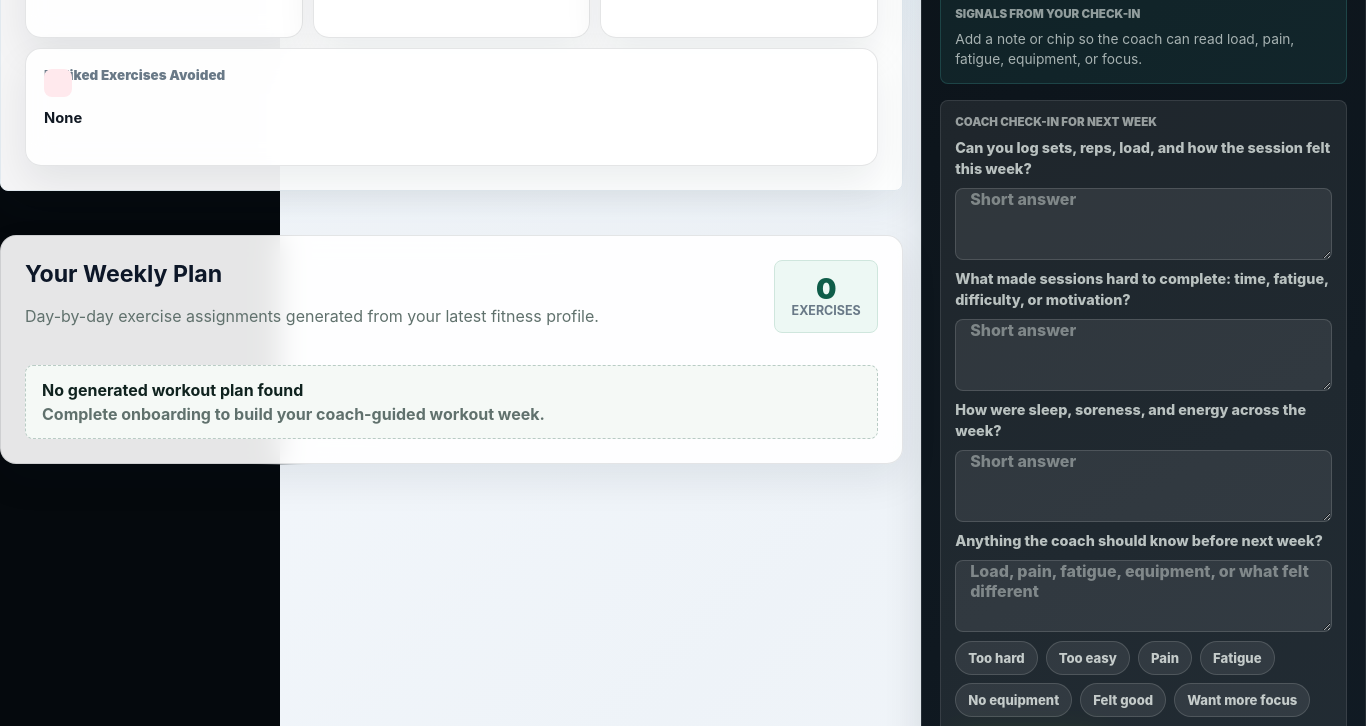
it: weekly check-in renders guided inputs and sends answers, note, and selected chips
(page scrolled)
Expected: the text "Coach check-in for next week" is shown, [955,116,1157,130]
Expected: the text "Coach suggestions" is not shown
In the text box named "Answer coach question 2": (1144, 355) [955,319,1332,391], type "No time because work was busy"
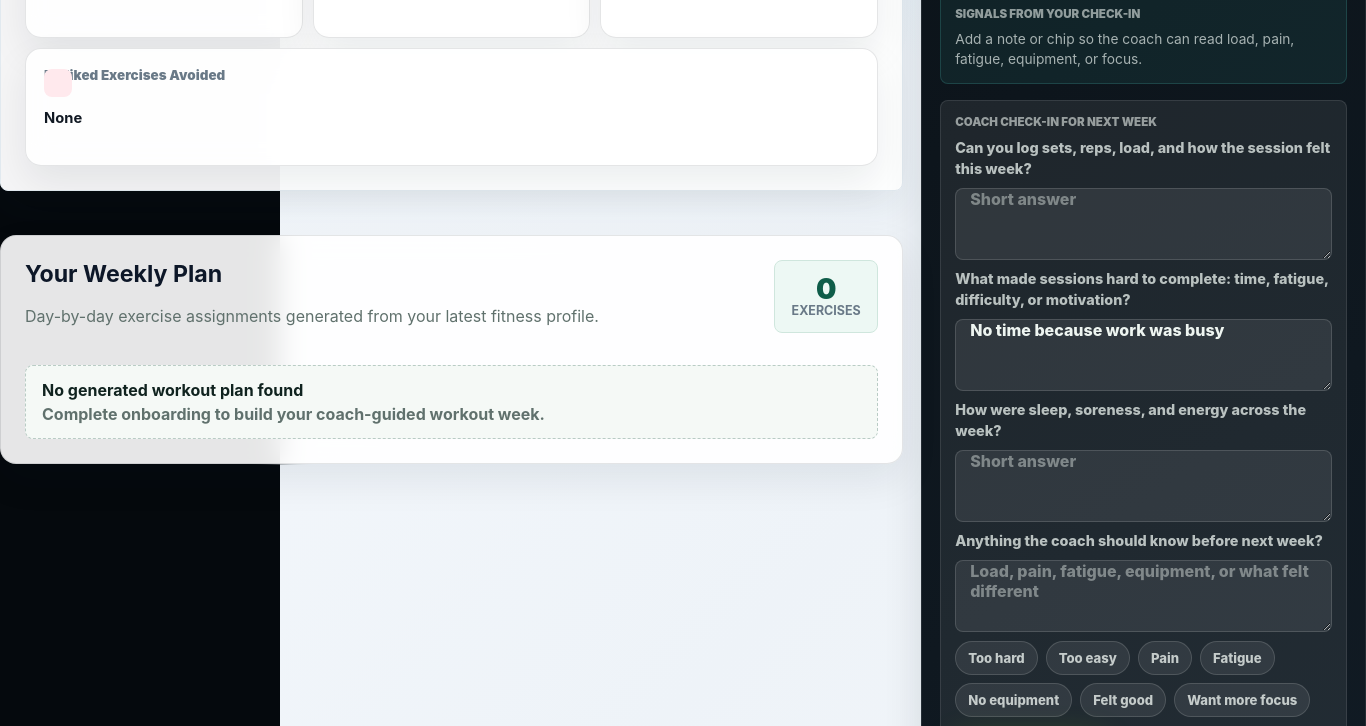
In the text box named "General coach note": (1144, 596) [955,560,1332,632], type "The machine was occupied"
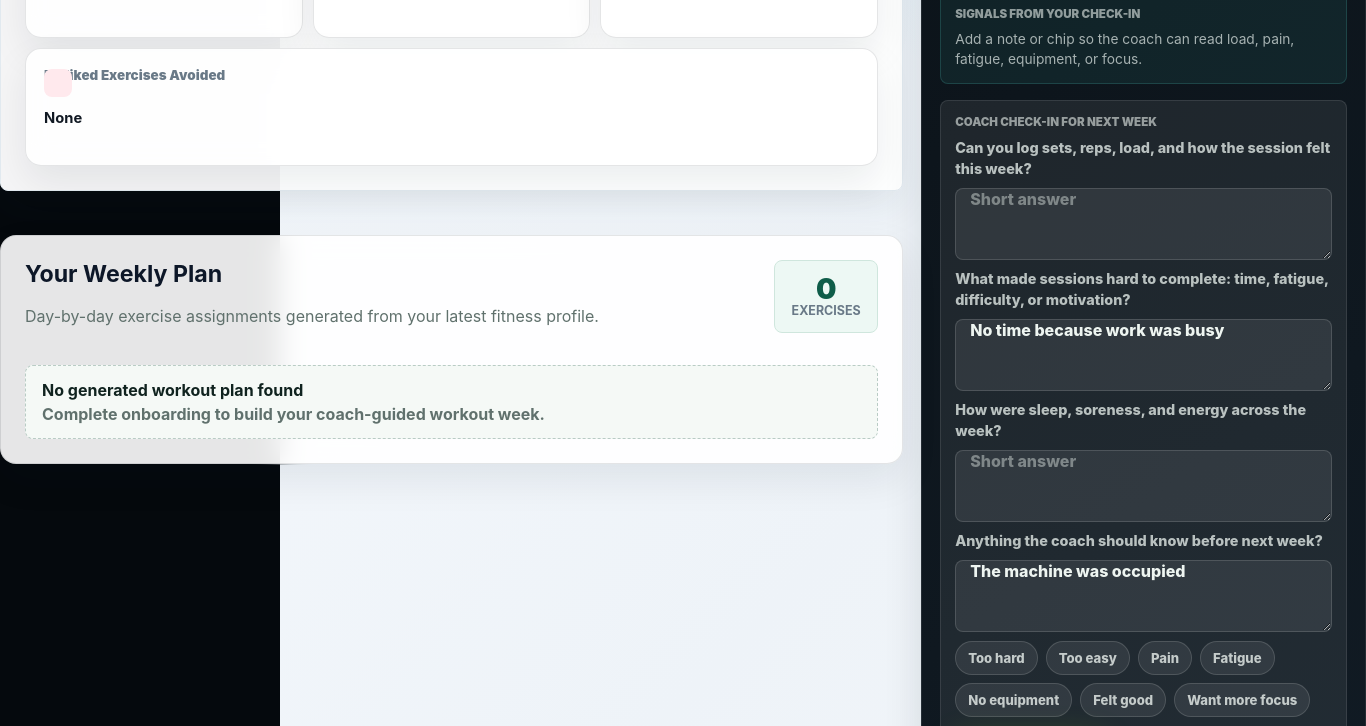
Click the button "Too hard": (996, 658) [955,641,1038,675]
(page scrolled)
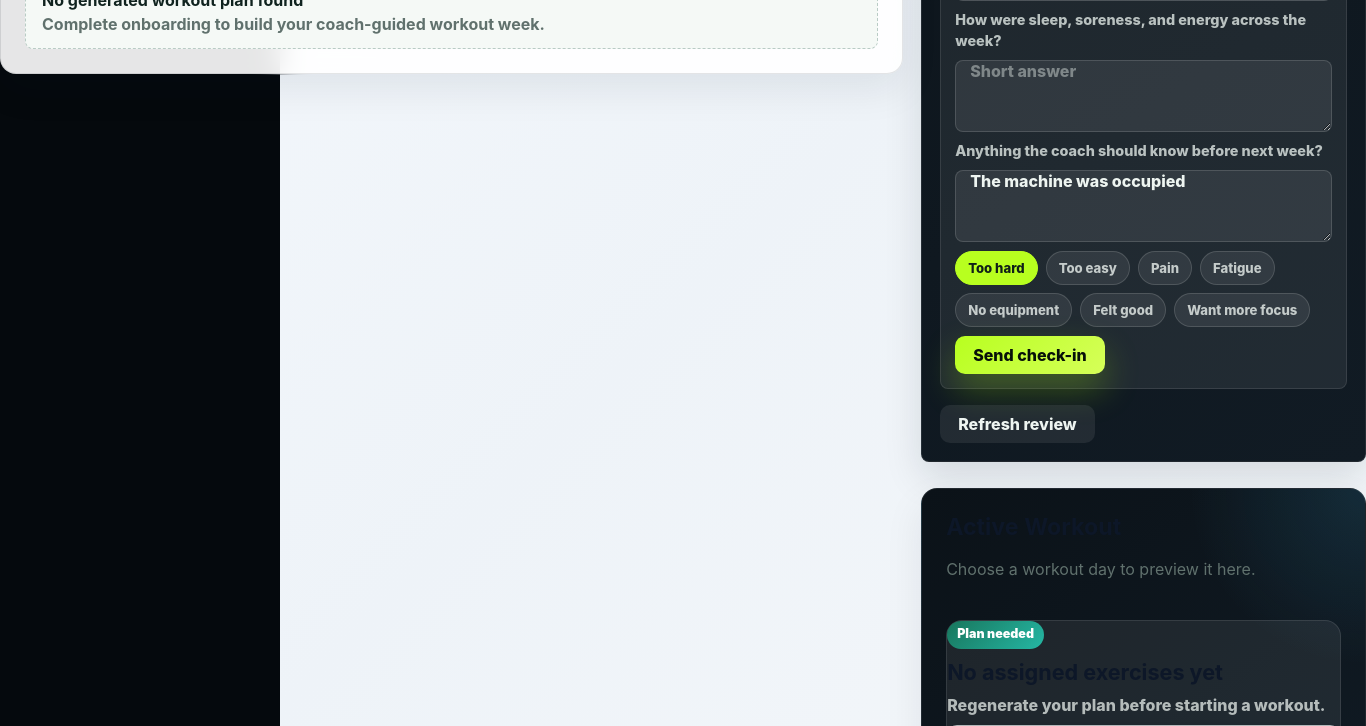
Click the button "Send check-in": (1030, 355) [955,336,1105,374]
(page scrolled)
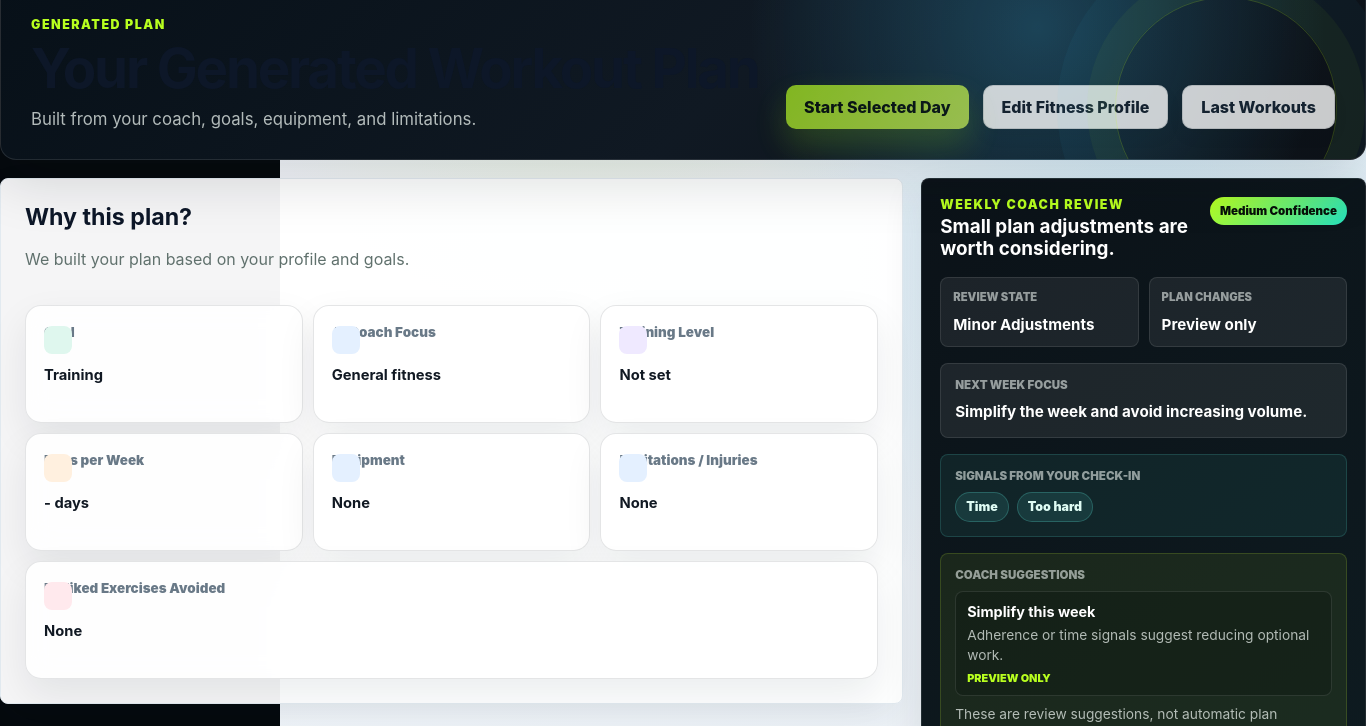
Expected: the heading "Small plan adjustments are worth considering." is shown, [940,216,1198,260]
Expected: the text "Simplify the week and avoid increasing volume." is shown, [955,400,1332,422]
Expected: the text "Time" is shown, [955,492,1009,522]
